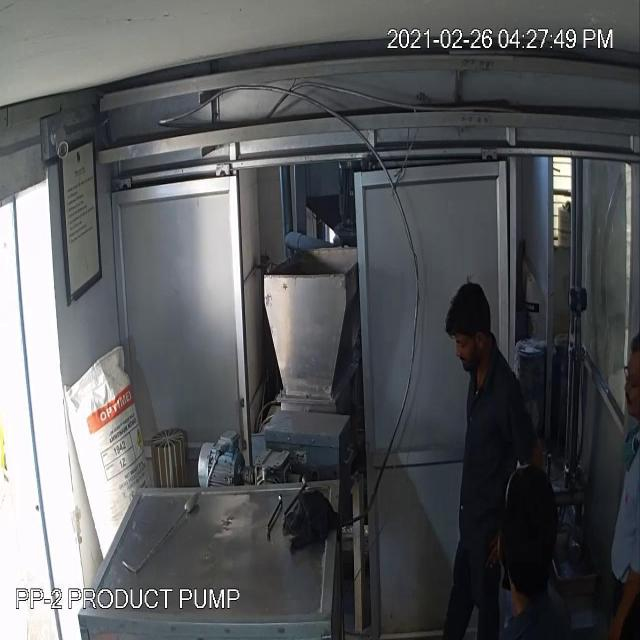no-helmet: (442, 276, 494, 359)
